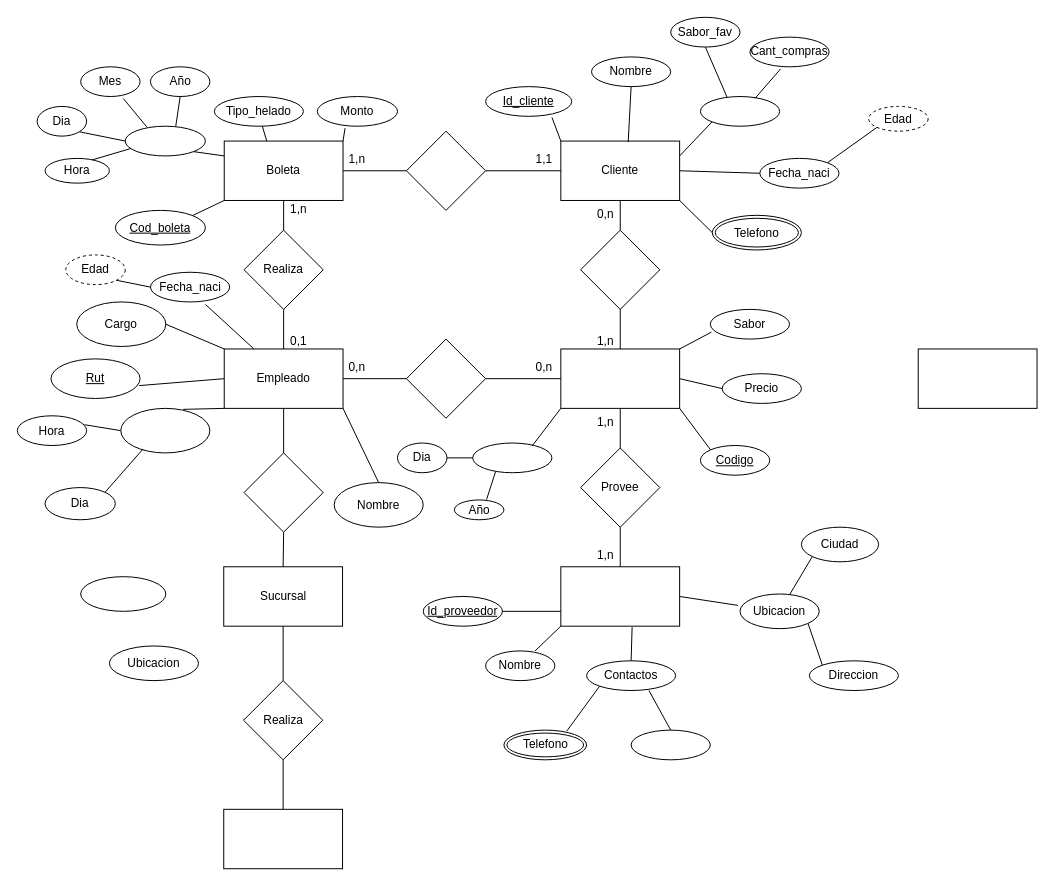
Image size: 1054x886. Some labels were removed from this diagram. The shapes that lost their labels are listed below. From the top down, each one's centre as x and y in pixels, then its label:
(x=739, y=111): Historial
(x=164, y=140): Fecha
(x=445, y=170): Recibe
(x=620, y=269): Compra
(x=445, y=378): Vende
(x=620, y=378): Helado
(x=165, y=430): Jornada
(x=512, y=457): Fecha_venc
(x=283, y=492): Trabaja
(x=620, y=596): Proveedor
(x=670, y=744): Correo
(x=283, y=838): Delivery
